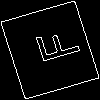F: (25, 25, 82, 68)
